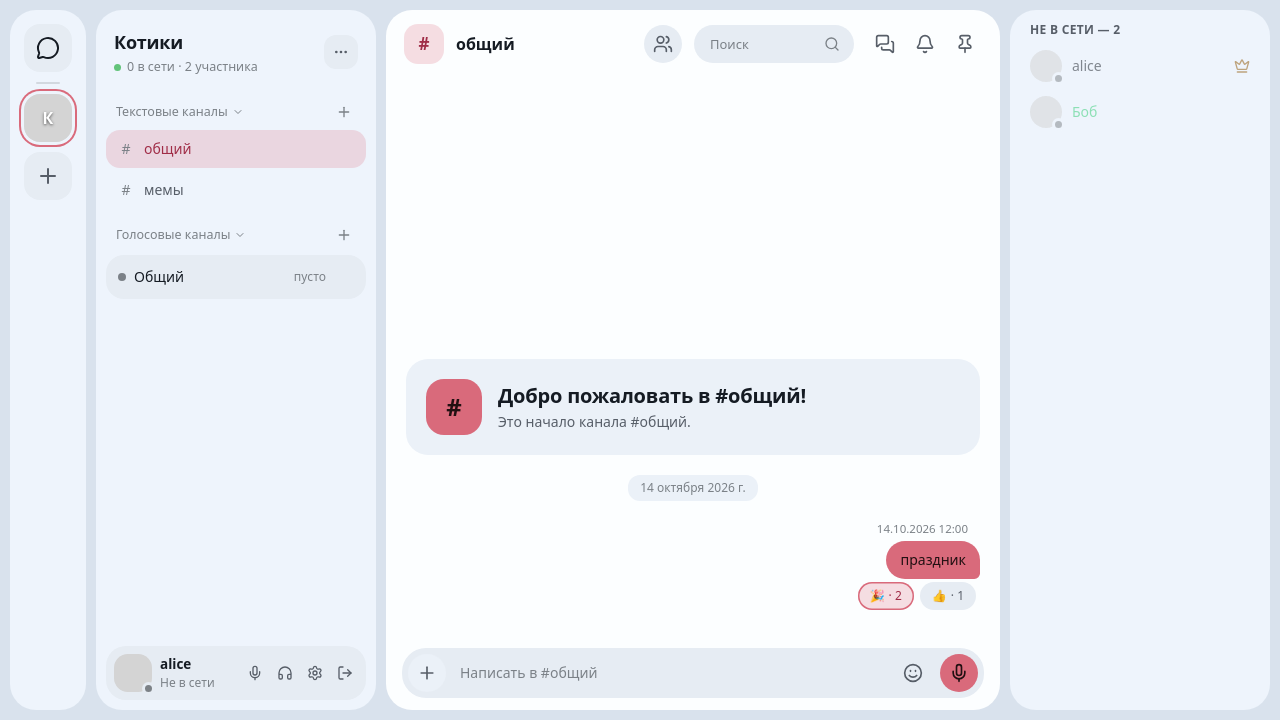
Test: reactions › keeps my reactions when I edit the message
expect the text "праздник" is shown: met, box [900,550,966,570]
Right-click the list item "праздник".
right_click(919, 565)  # box [858,520,980,610]
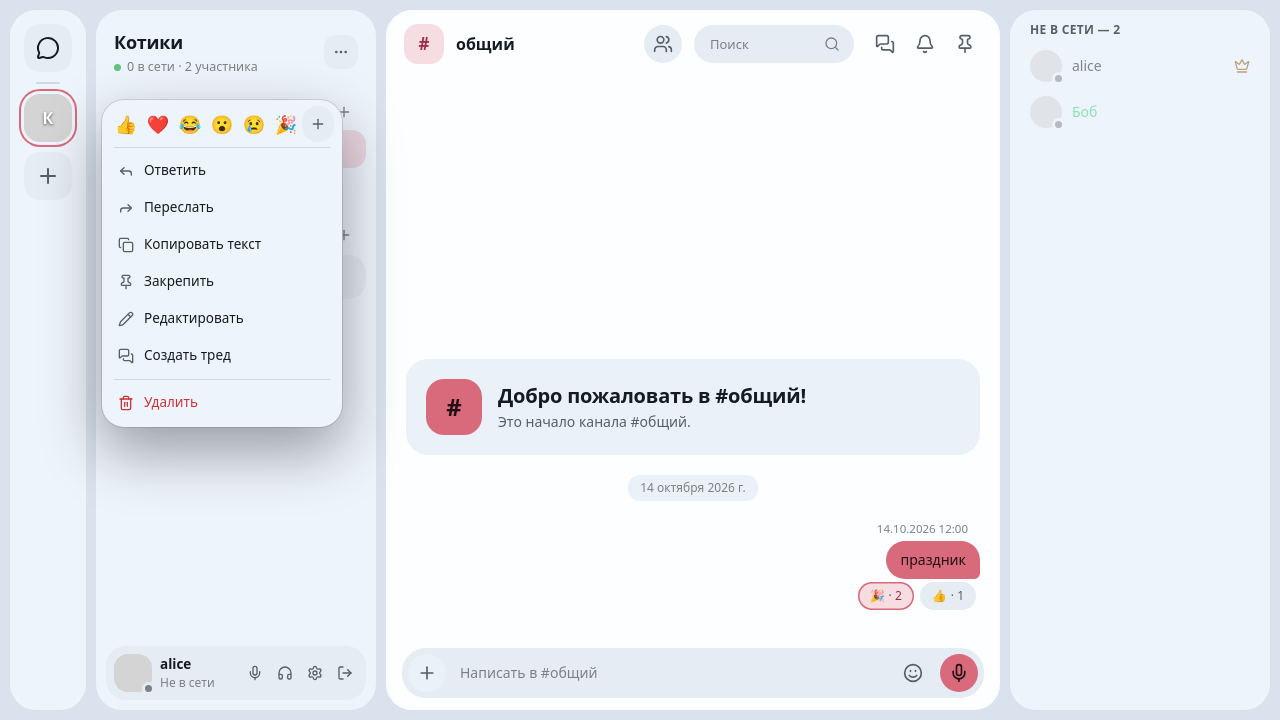
Click the menu item "Редактировать".
click(181, 318)  # box [118,309,244,327]
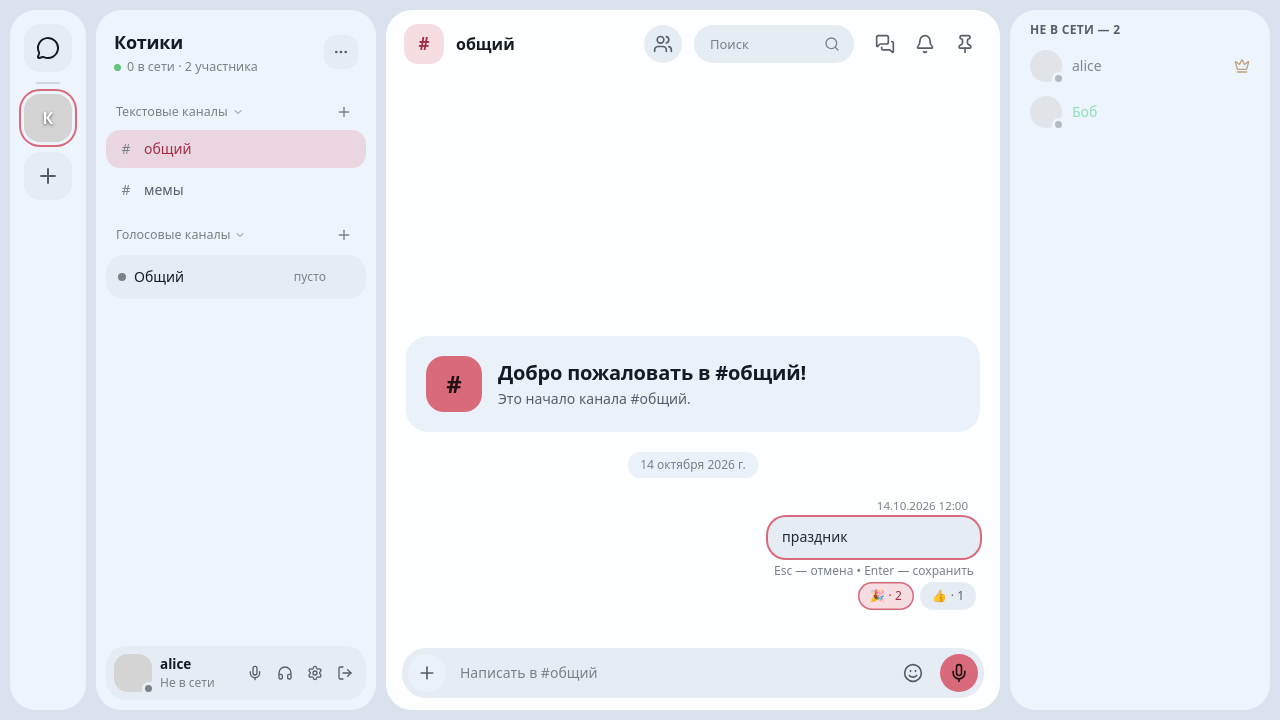
Type "!" into the text box named "Изменить сообщение".
click(874, 538); type("!")  # box [768,517,980,558]
Then press Enter
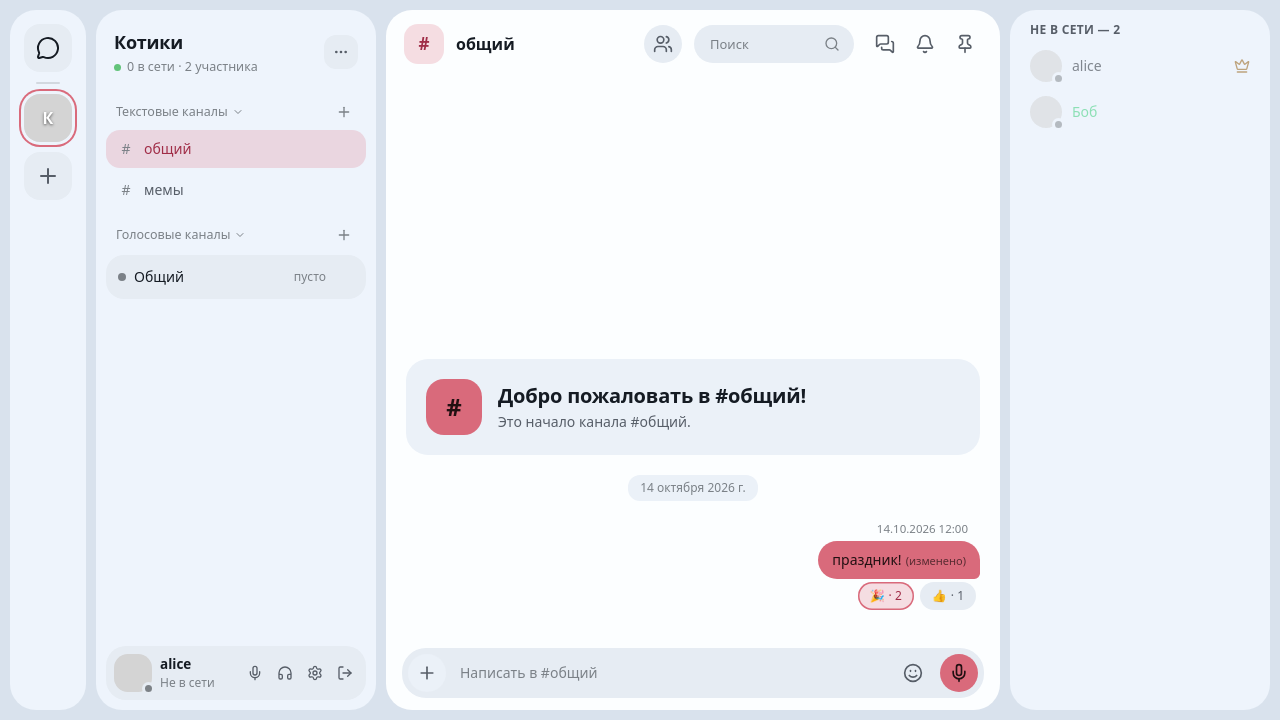
expect the button named "🎉: 2, вы среди них" is shown: met, box [858,582,914,610]
expect the text "праздник!" is shown: met, box [832,550,902,569]
